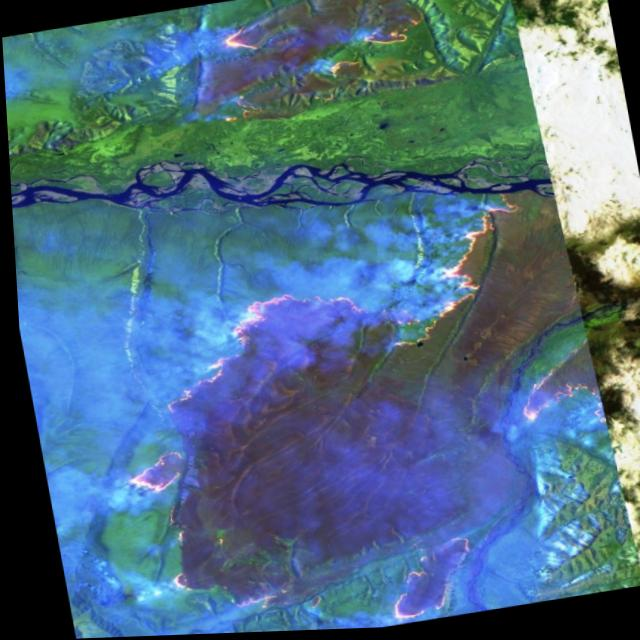fire: (36, 0, 638, 639)
